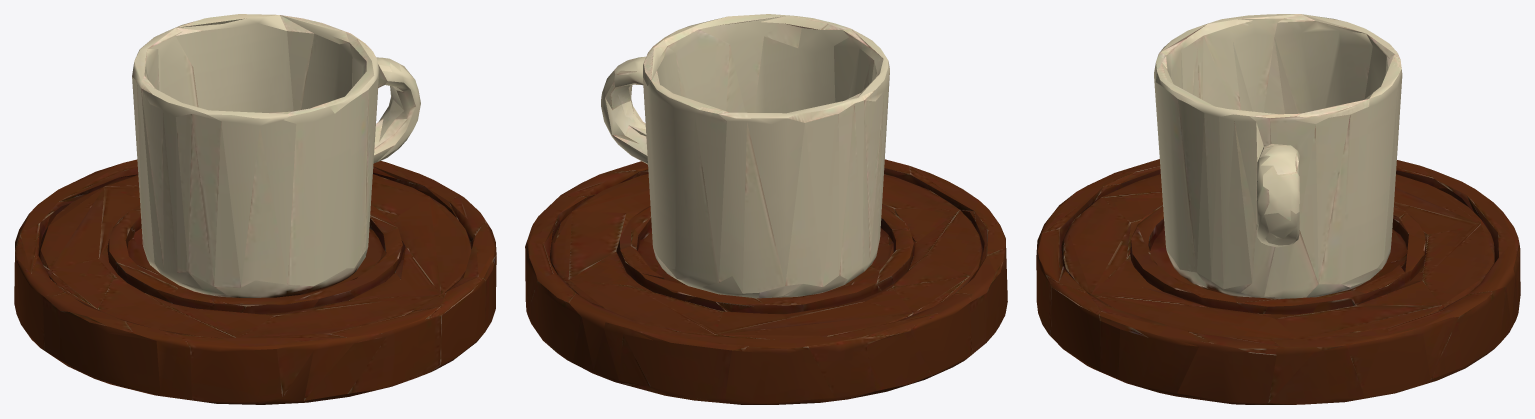
3 views of the same model, side by side, from view 1: azimuth 30°, elevation 25°; view 2: azimuth 150°, elevation 25°; view 3: azimuth 270°, elevation 25° (orthographic).
Bounding box in the file's own units: 0.9991 × 0.5517 × 1.
1 material, 1 textured.
